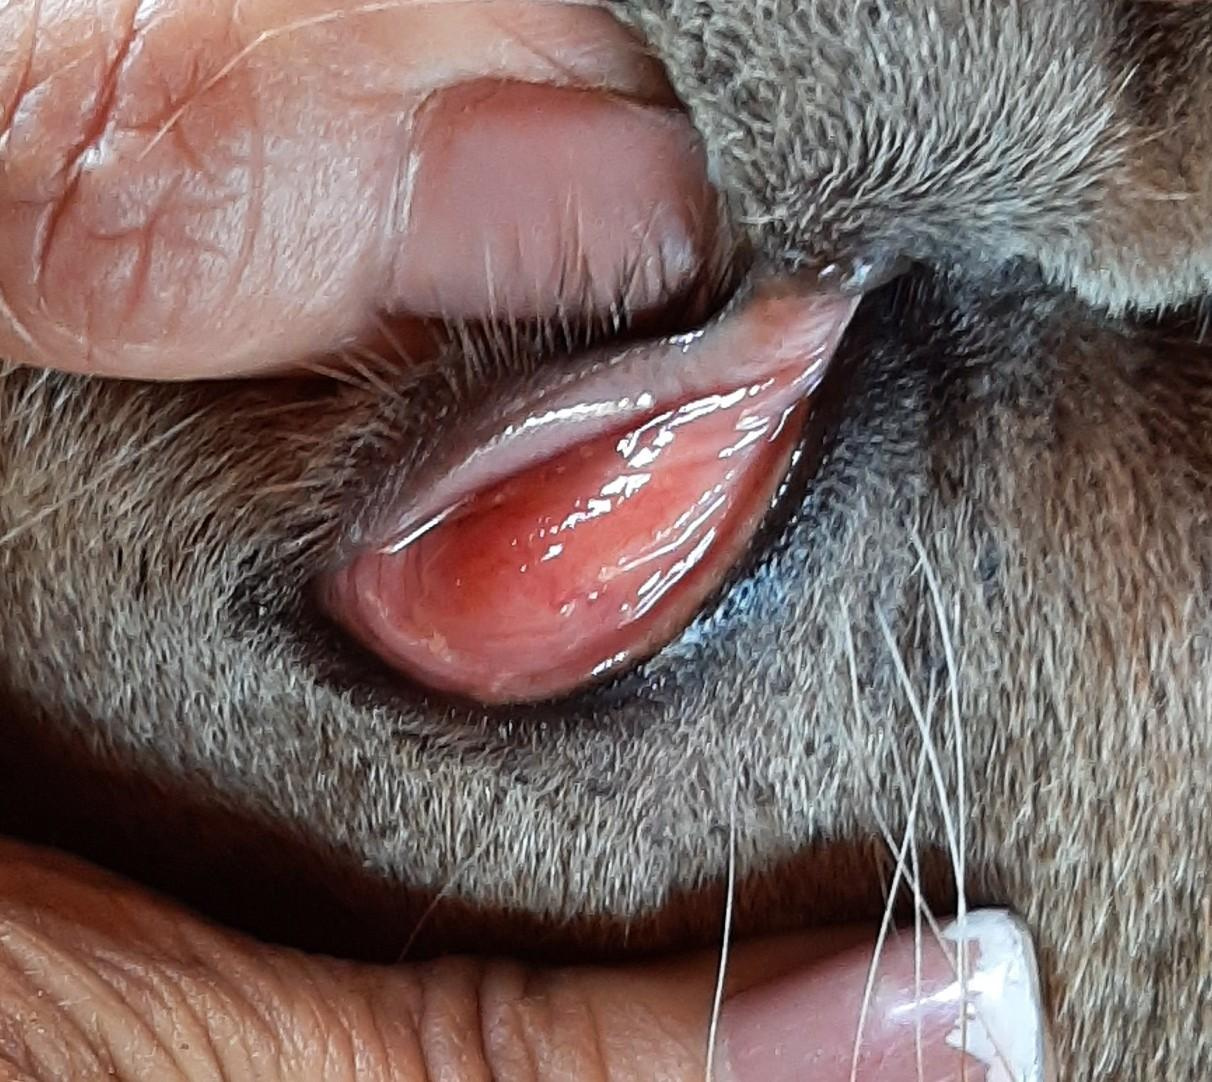eye_membrane: (340, 390, 799, 690)
